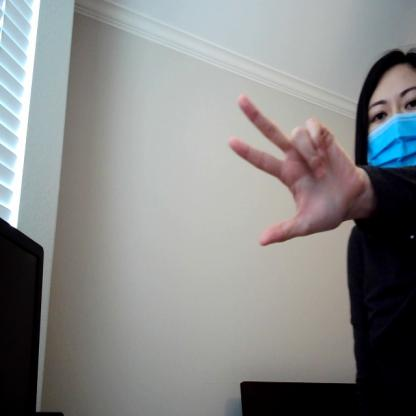three: (228, 92, 364, 250)
